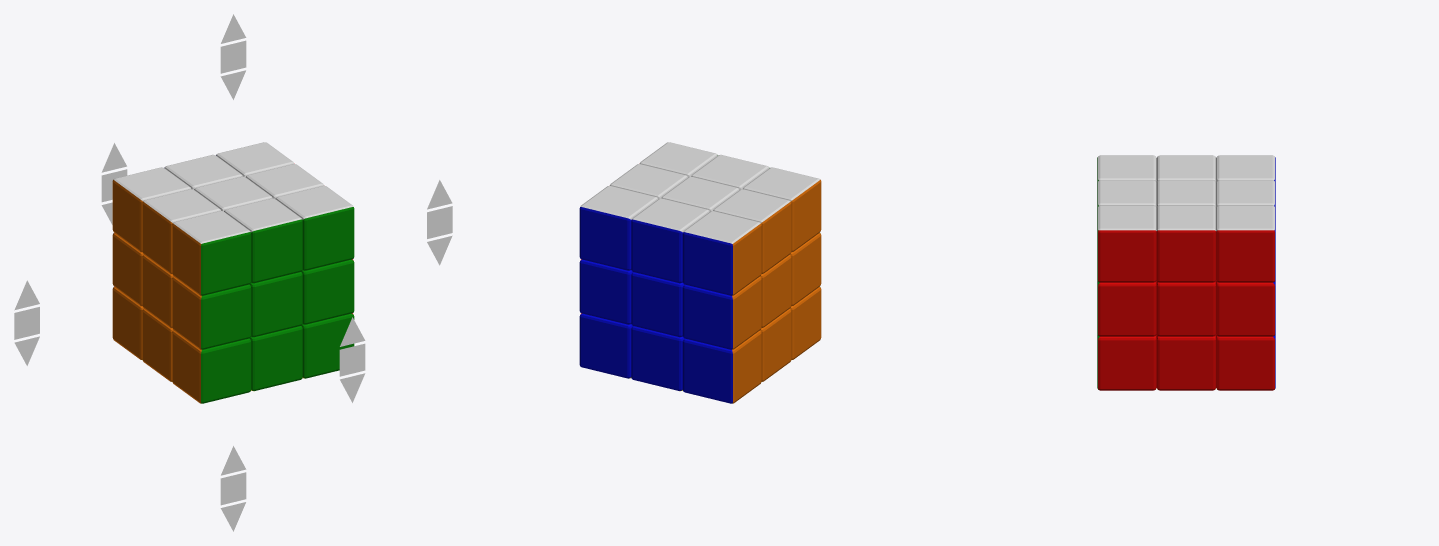
File: Ordiks_Cube_Separated_Cubies_Individual_Origins_00.glb
3 views of the same model, side by side, from view 1: azimuth 30°, elevation 25°; view 2: azimuth 150°, elevation 25°; view 3: azimuth 270°, elevation 25° (orthographic).
Parts seen in each view (by area): view 1: -1,1,1, -1,-1,1, -1,0,1, 1,1,1, 0,1,1, -1,1-1, -1,1,0, 1,0,1, 0,-1,1, 0,0,1, 1,-1,1, -1,0,0 (+12 smaller); view 2: -1,1-1, -1,-1,-1, -1,0,-1, 1,1,-1, 0,1,-1, -1,1,1, -1,1,0, 1,-1,-1, 1,0,-1, 0,-1,-1, 0,0,-1, -1,0,0 (+7 smaller); view 3: 1,1,0, 1,1,1, 1,1,-1, 1,0,0, 1,-1,0, 1,0,1, 1,0,-1, 1,-1,1, 1,-1,-1, 0,1,0, -1,1,0, -1,1,1 (+3 smaller).
Part boxes in pixels (box(x1,y1,x2,y2)): -1,1,1: box(172, 211, 251, 295); -1,-1,1: box(172, 330, 251, 403); -1,0,1: box(172, 276, 251, 349); 1,1,1: box(275, 185, 354, 270); 0,1,1: box(224, 198, 302, 283); -1,1-1: box(112, 167, 190, 252); -1,1,0: box(142, 189, 220, 273); 1,0,1: box(301, 259, 354, 324); 0,-1,1: box(249, 326, 302, 391); 0,0,1: box(250, 272, 302, 337); 1,-1,1: box(301, 313, 354, 378); -1,0,0: box(142, 254, 173, 327); -1,1-1: box(682, 211, 761, 295); -1,-1,-1: box(682, 330, 761, 403); -1,0,-1: box(682, 276, 761, 349); 1,1,-1: box(579, 185, 658, 270); 0,1,-1: box(631, 198, 709, 283); -1,1,1: box(743, 167, 821, 252); -1,1,0: box(713, 189, 791, 273); 1,-1,-1: box(579, 313, 632, 378); 1,0,-1: box(579, 259, 632, 324); 0,-1,-1: box(631, 326, 684, 391); 0,0,-1: box(631, 272, 683, 337); -1,0,0: box(760, 254, 791, 327); 1,1,0: box(1156, 205, 1216, 282); 1,1,1: box(1097, 205, 1156, 282); 1,1,-1: box(1216, 205, 1275, 282); 1,0,0: box(1156, 280, 1216, 336); 1,-1,0: box(1156, 334, 1216, 390); 1,0,1: box(1097, 280, 1156, 336); 1,0,-1: box(1216, 280, 1275, 336); 1,-1,1: box(1097, 334, 1156, 390); 1,-1,-1: box(1216, 334, 1275, 390); 0,1,0: box(1156, 180, 1216, 207); -1,1,0: box(1156, 155, 1216, 182); -1,1,1: box(1097, 155, 1156, 182).
Size of the model in its own units: 8.5 by 9.6 by 8.
